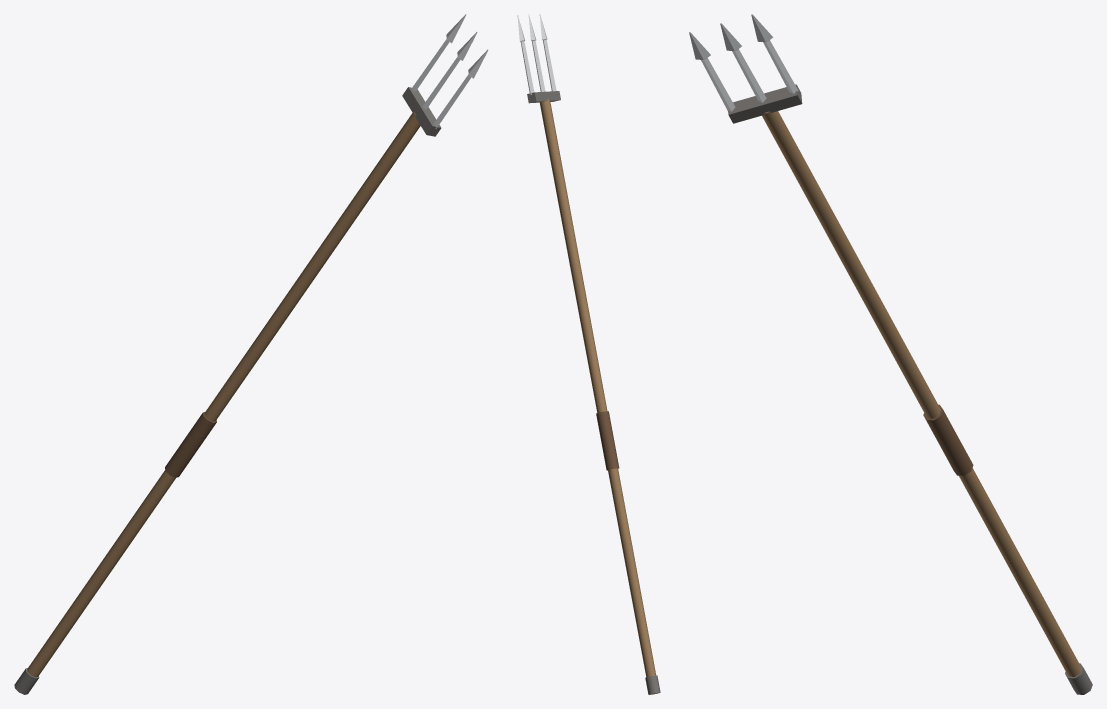
The model's file is wpn_trident.glb.
3 renders of one model, left to right at view 1: azimuth 30°, elevation 25°; view 2: azimuth 150°, elevation 25°; view 3: azimuth 270°, elevation 25°, orthographic. The views are drawn at different scales.
Visible parts, largest first — view 1: wpn_trident; view 2: wpn_trident; view 3: wpn_trident.
Part boxes in pixels (x1,y1,x2,y2): wpn_trident: (14, 14, 488, 694); wpn_trident: (517, 14, 660, 694); wpn_trident: (689, 14, 1092, 694).
Bounding box in the file's own units: 0.4917 × 1.04 × 0.44.
